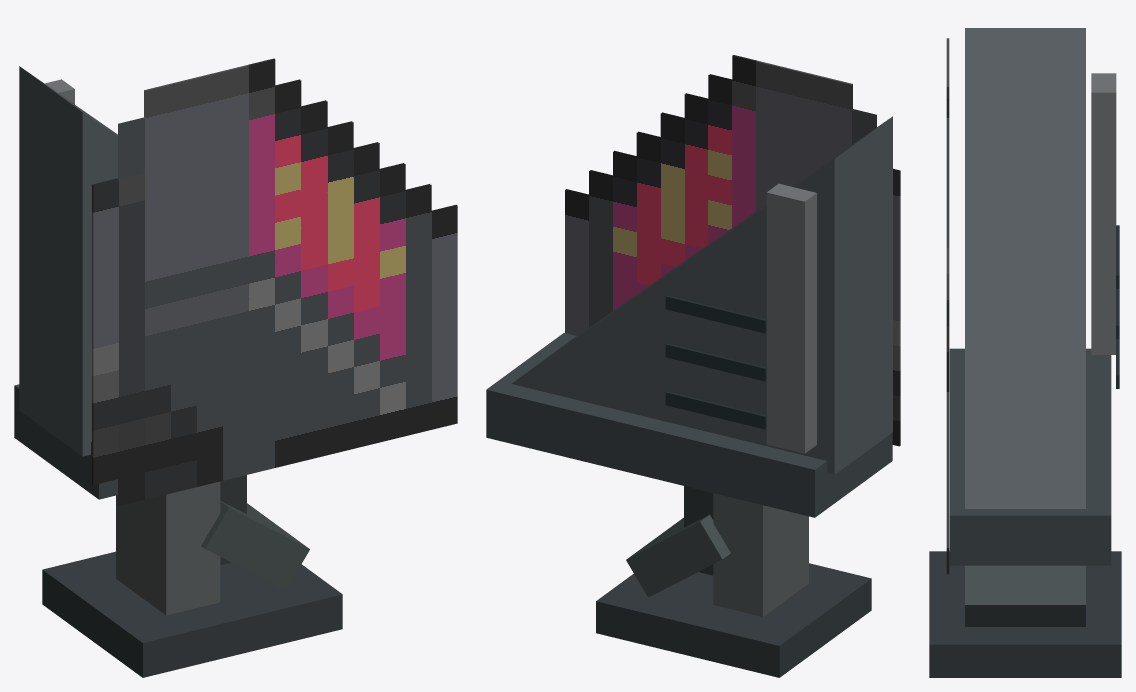
The model's file is CMU3DAutodocConsoleCloudSouth.glb.
The picture shows the model from 3 angles, left to right: view 1: azimuth 30°, elevation 25°; view 2: azimuth 150°, elevation 25°; view 3: azimuth 270°, elevation 25°; orthographic projection. The views are drawn at different scales.
Visible parts, largest first — view 1: original diagonal display and bezel, sloping solid monitor enclosure, asymmetric floor foot, narrow pedestal stem, pedestal angled brace, cast monitor lower tray, pedestal dark rear web; view 2: sloping solid monitor enclosure, original diagonal display and bezel, cast monitor lower tray, asymmetric floor foot, top rear spine, narrow pedestal stem, pedestal angled brace, rear heat slit (×3), pedestal dark rear web; view 3: sloping solid monitor enclosure, cast monitor lower tray, asymmetric floor foot, pedestal angled brace, top rear spine, original diagonal display and bezel.
Part boxes in pixels (x1,y1,x2,y2): original diagonal display and bezel: (92,58,457,505); sloping solid monitor enclosure: (19,66,117,456); asymmetric floor foot: (42,551,342,677); narrow pedestal stem: (116,481,220,615); pedestal angled brace: (201,501,309,590); cast monitor lower tray: (14,384,117,499); pedestal dark rear web: (220,475,246,565); sloping solid monitor enclosure: (511,116,892,474); original diagonal display and bezel: (565,55,900,446); cast monitor lower tray: (486,333,892,517); asymmetric floor foot: (596,563,871,677); top rear spine: (766,183,816,453); narrow pedestal stem: (713,493,808,616); pedestal angled brace: (626,514,730,597); rear heat slit (×3): (665,295,766,429); pedestal dark rear web: (684,486,713,575); sloping solid monitor enclosure: (965,28,1085,508); cast monitor lower tray: (949,348,1111,565); asymmetric floor foot: (929,551,1121,677); pedestal angled brace: (965,565,1085,626); top rear spine: (1091,73,1116,354); original diagonal display and bezel: (946,38,949,574).
Size of what is drawn, in the model's own units: 0.44 by 0.6625 by 0.209.
Materials: 9 (1 with a texture image).
